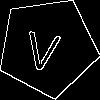V: (22, 22, 64, 73)
